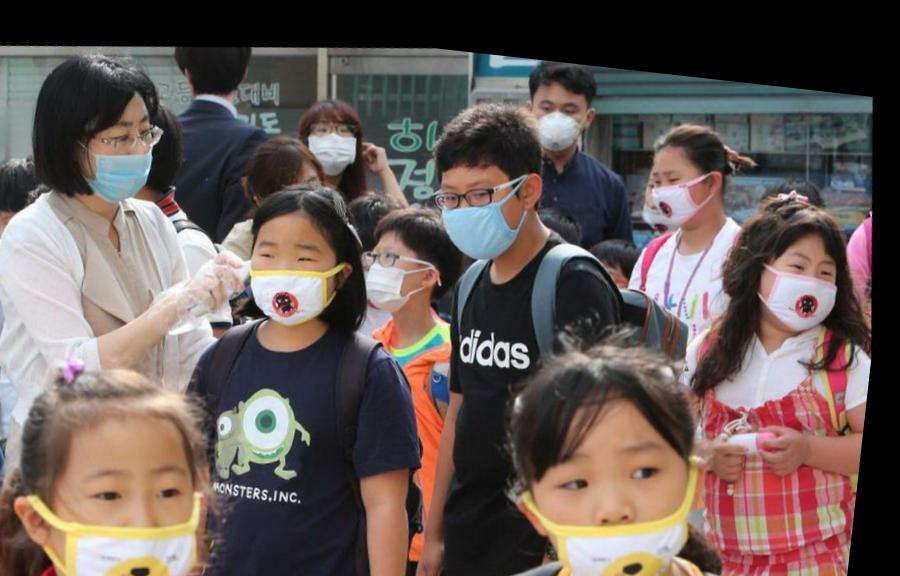OK: (246, 217, 344, 327), (433, 157, 532, 254), (766, 221, 849, 318), (365, 219, 430, 306), (532, 73, 592, 144), (305, 102, 364, 172), (649, 142, 704, 215)
WRONG: (536, 395, 715, 576), (63, 432, 222, 576), (82, 97, 164, 204)
